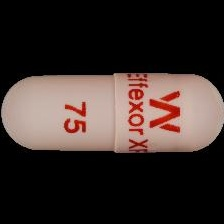49999-249: (0, 0, 224, 224)
